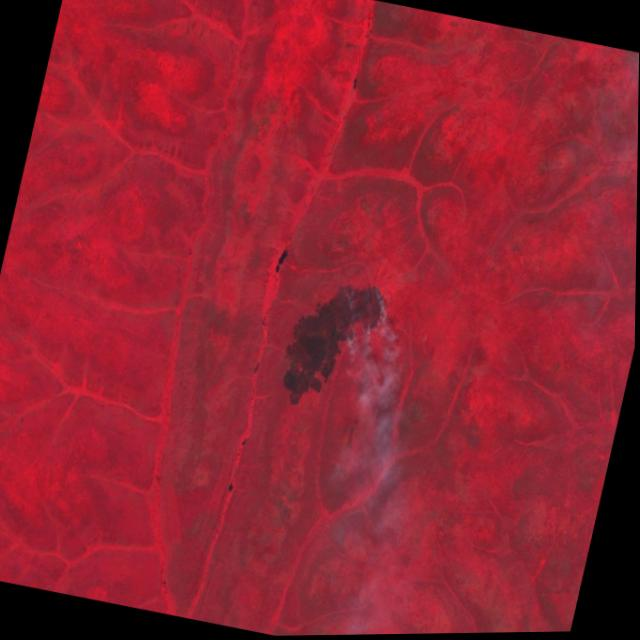fire: (319, 254, 401, 364)
